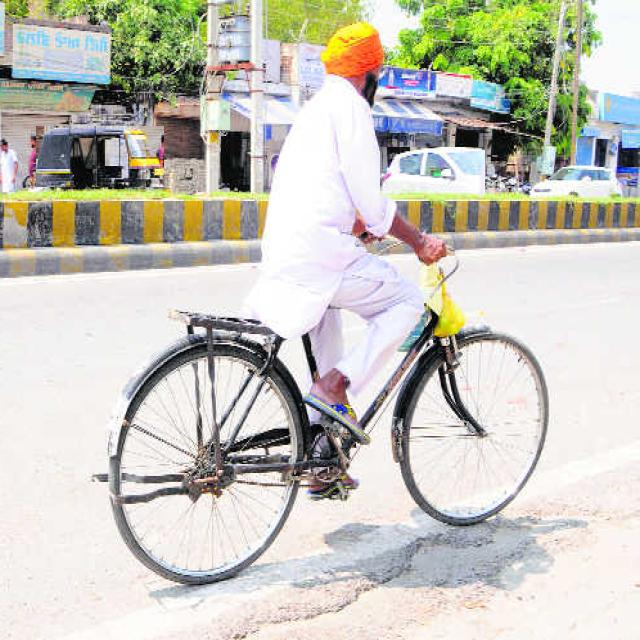autorickshaw: (36, 126, 164, 187)
bicycle: (99, 23, 548, 583)
car: (380, 148, 485, 195), (530, 165, 622, 198)
